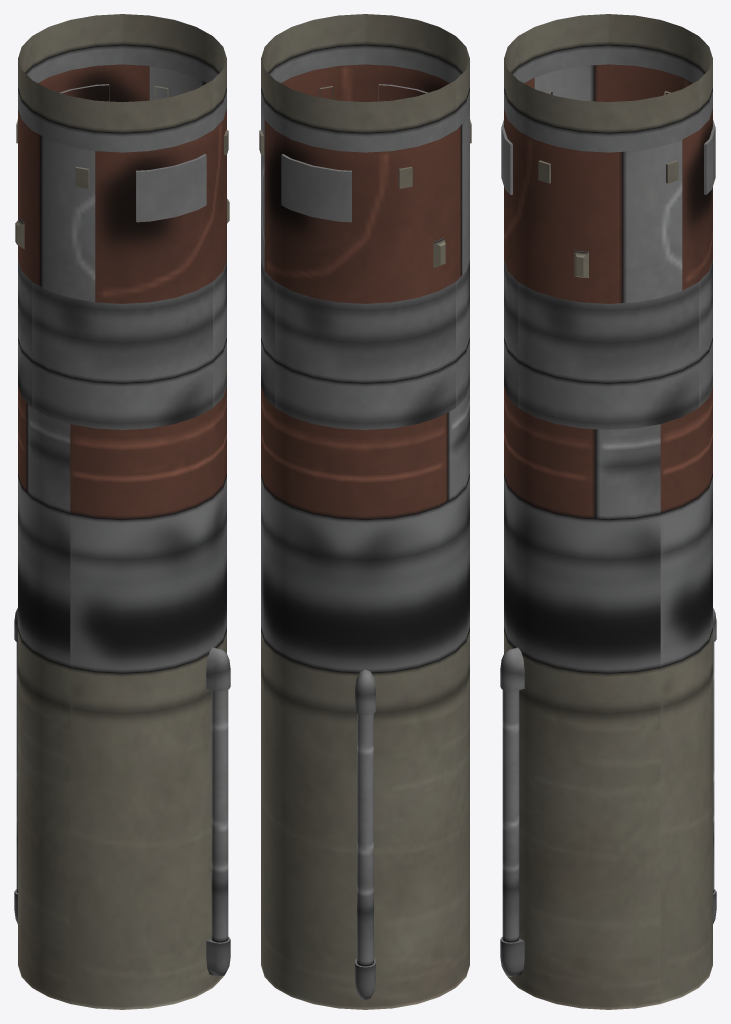
The model's file is big_tank.obj.
3 renders of one model, left to right at view 1: azimuth 30°, elevation 25°; view 2: azimuth 150°, elevation 25°; view 3: azimuth 270°, elevation 25°, orthographic.
Parts seen in each view (by area): view 1: 1; view 2: 1; view 3: 1.
Part boxes in pixels (bbox=[...]): 1: bbox=[14, 14, 230, 1009]; 1: bbox=[259, 14, 471, 1009]; 1: bbox=[500, 14, 716, 1009].
Bounding box in the file's own units: 3.85 × 18 × 3.88.
